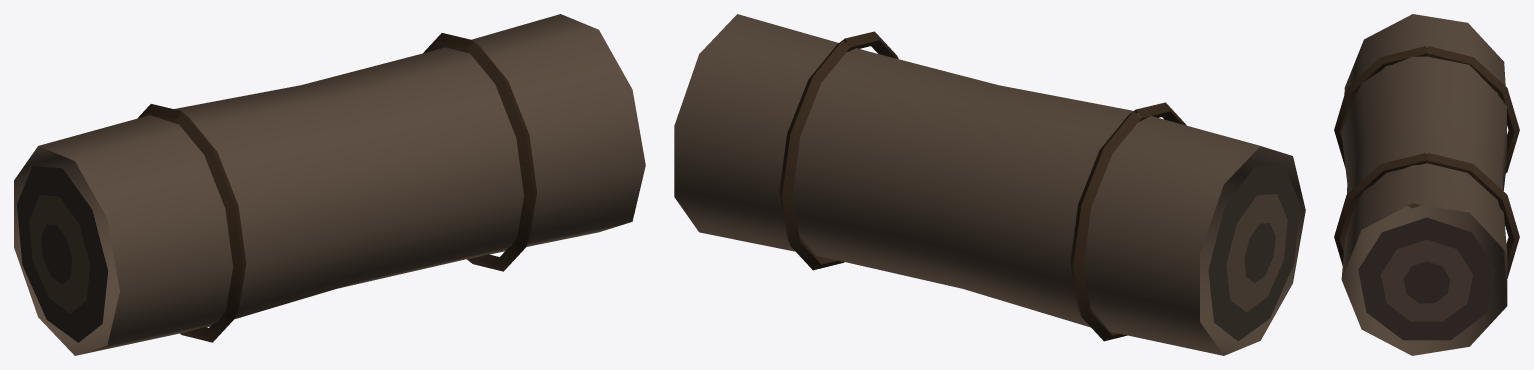
Rendered from bedroll.glb.
The picture shows the model from 3 angles, left to right: view 1: azimuth 30°, elevation 25°; view 2: azimuth 150°, elevation 25°; view 3: azimuth 270°, elevation 25°; orthographic projection. The views are drawn at different scales.
Parts seen in each view (by area): view 1: bedroll; view 2: bedroll; view 3: bedroll.
Part boxes in pixels (x1,y1,x2,y2): bedroll: (14, 14, 645, 355); bedroll: (674, 14, 1305, 355); bedroll: (1334, 14, 1519, 355).
Size of the model in its own units: 0.744 by 0.2937 by 0.294.
